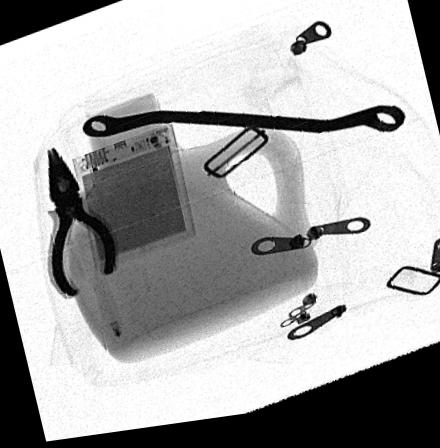Pliers: (44, 144, 119, 301)
Powerbank: (72, 128, 198, 273)
Wrench: (82, 114, 405, 144)
